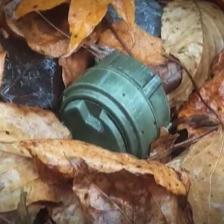M14: (66, 52, 176, 160)
